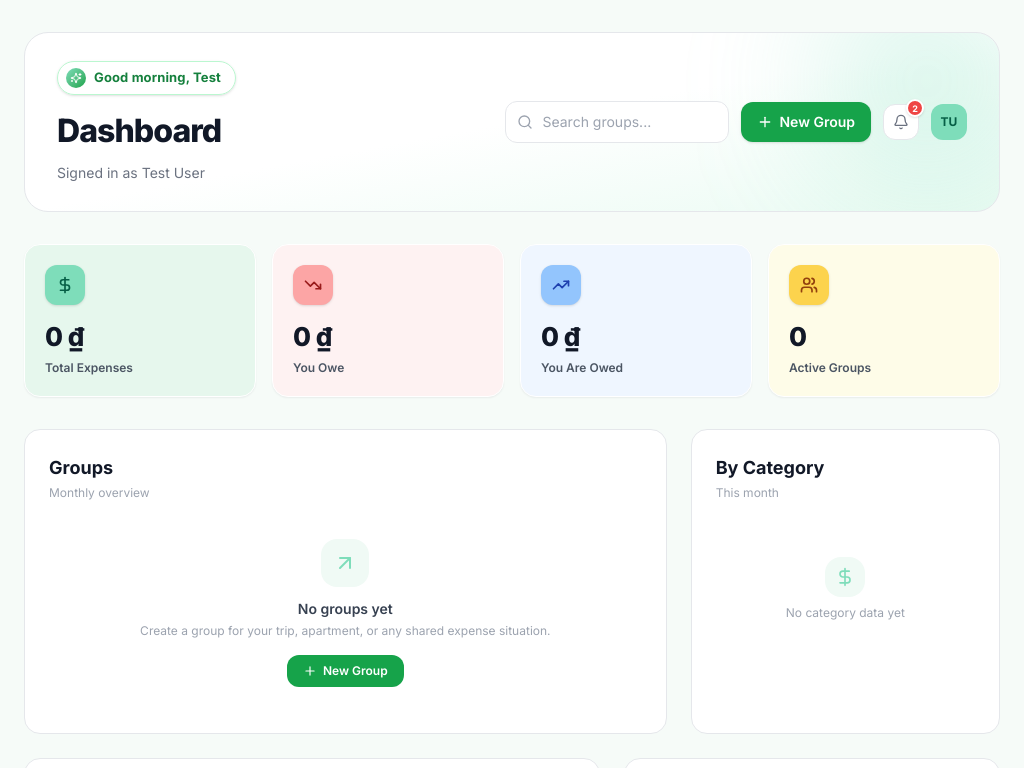
Dashboard notification integration › loads the list, marks one as read and deep-links to its expense
Click the button named "Notifications, 2 unread notifications": click(901, 122) [883, 104, 919, 140]
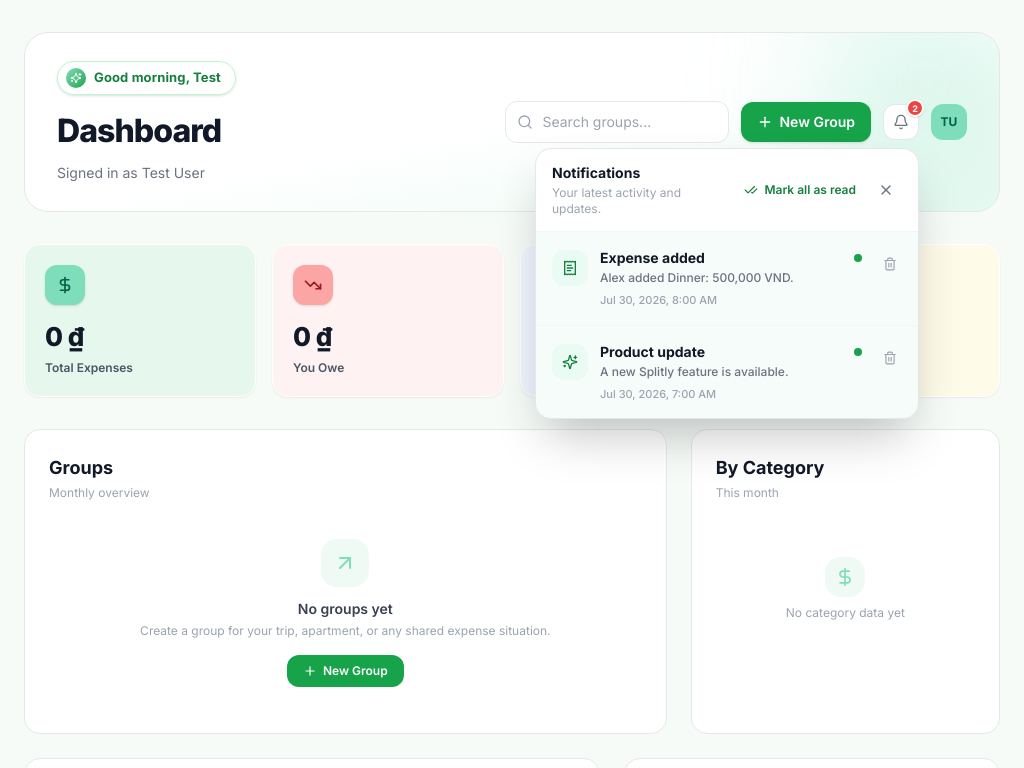
Click the button "Expense added": click(707, 278) [548, 244, 866, 312]
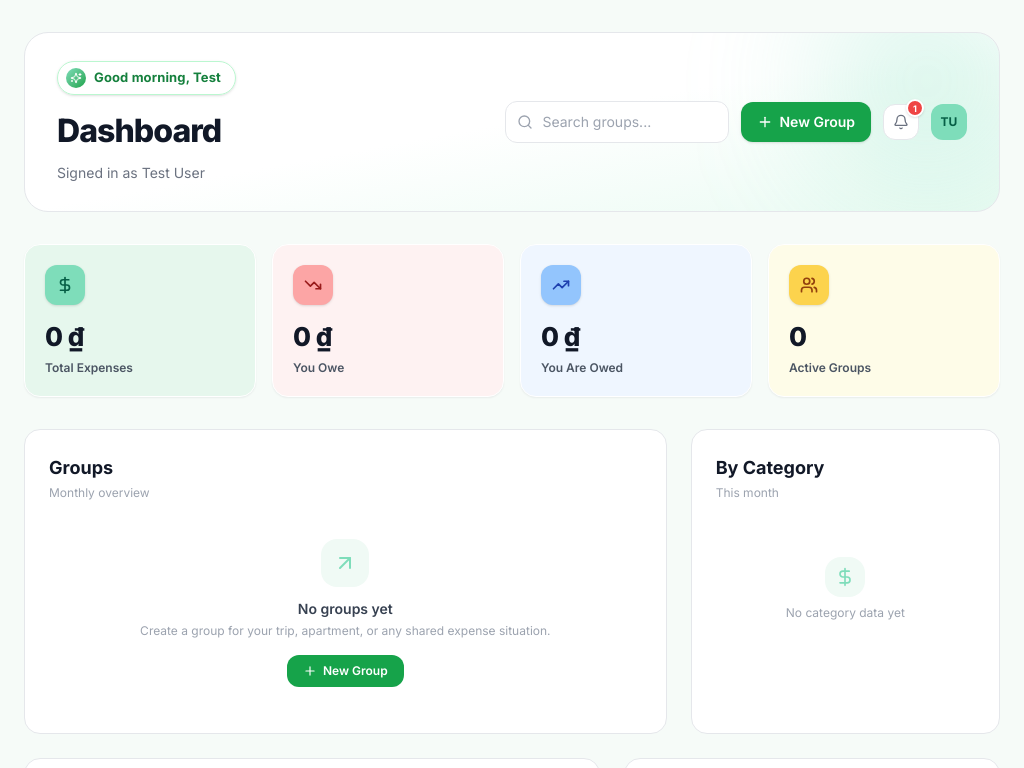
Now the button named "Notifications, 1 unread notification" is shown, box [883, 104, 919, 140]
